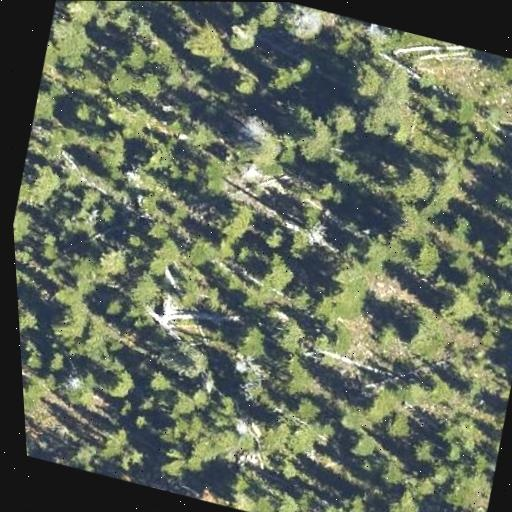tree-top: (309, 245, 383, 321), (425, 404, 500, 466), (334, 50, 404, 113), (378, 151, 451, 211), (290, 100, 356, 165), (172, 13, 239, 73), (42, 5, 104, 69), (380, 196, 444, 258), (433, 453, 498, 512), (14, 155, 71, 216), (270, 2, 338, 52), (40, 292, 98, 348), (194, 418, 257, 467), (128, 130, 183, 183), (261, 48, 314, 99), (388, 306, 441, 357), (263, 309, 314, 360), (443, 250, 494, 301), (442, 118, 496, 165), (88, 237, 139, 285), (136, 231, 190, 276), (217, 10, 266, 59), (371, 480, 446, 512), (118, 261, 166, 311), (247, 252, 295, 301), (160, 405, 209, 450), (319, 93, 367, 138), (405, 235, 450, 282), (482, 72, 512, 142), (230, 319, 276, 364), (83, 129, 129, 173), (97, 56, 141, 101), (252, 414, 296, 459), (436, 286, 479, 331), (169, 267, 215, 309), (281, 195, 327, 237), (377, 404, 421, 447), (179, 231, 223, 274), (222, 63, 267, 105), (329, 399, 370, 445), (58, 368, 101, 411), (193, 155, 233, 201), (152, 444, 193, 486), (57, 255, 99, 296), (95, 367, 140, 405), (217, 203, 259, 243), (57, 0, 113, 28), (349, 425, 389, 464), (243, 131, 281, 172), (61, 95, 102, 132), (31, 82, 64, 125), (405, 432, 442, 470), (439, 89, 479, 123), (137, 68, 174, 104), (65, 438, 103, 473), (70, 184, 105, 220), (95, 425, 130, 461), (133, 210, 170, 244), (160, 386, 197, 420), (256, 220, 292, 254), (28, 234, 64, 268), (140, 362, 174, 398), (12, 200, 39, 244), (20, 337, 51, 375), (372, 318, 407, 351), (489, 197, 512, 244), (22, 371, 46, 416), (119, 39, 152, 71), (96, 292, 130, 323), (484, 238, 512, 275), (90, 198, 122, 230), (288, 394, 321, 425), (335, 486, 372, 512), (43, 350, 73, 381), (184, 381, 214, 411), (223, 490, 259, 512), (224, 469, 253, 496), (302, 495, 347, 512), (232, 241, 258, 270), (487, 284, 512, 314), (212, 242, 238, 269), (502, 65, 512, 135), (270, 492, 304, 512), (485, 53, 512, 77), (139, 391, 165, 415), (97, 1, 139, 14), (442, 500, 487, 512), (129, 409, 153, 431), (251, 494, 280, 512), (15, 258, 26, 305), (502, 302, 512, 334), (204, 2, 247, 7)
